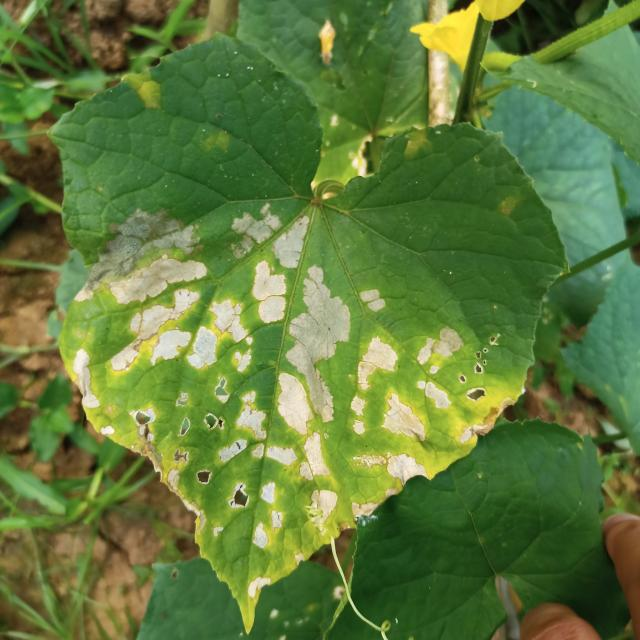disease_cucumber: (64, 199, 501, 614), (115, 57, 169, 116)
